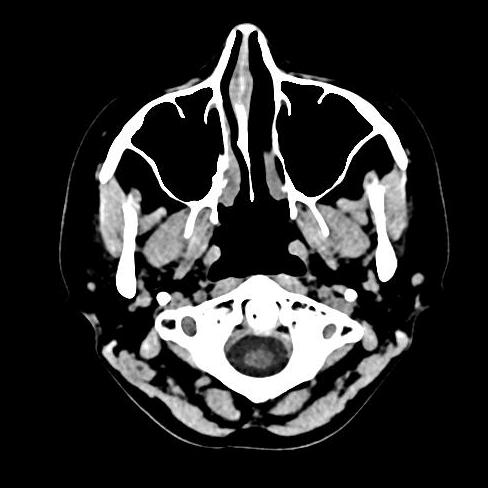Normal_Brain: (1, 1, 488, 488)
